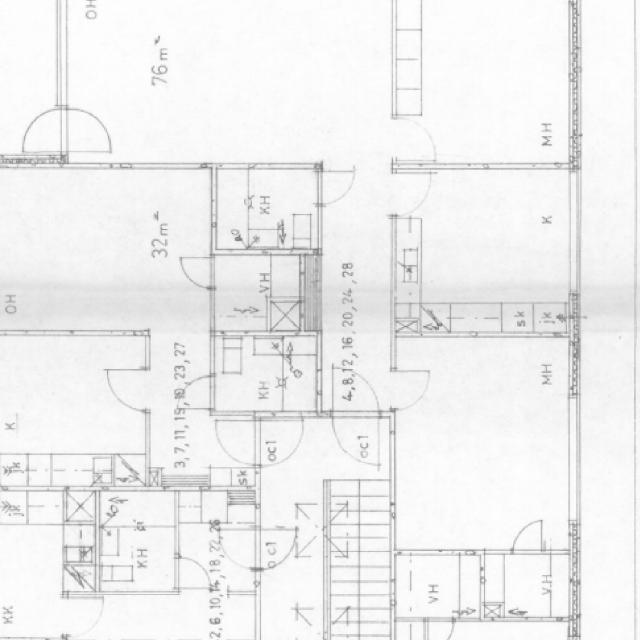door: (332, 410, 379, 464), (332, 363, 379, 417), (55, 108, 111, 152), (12, 108, 68, 152), (389, 172, 437, 215), (389, 116, 437, 159), (389, 370, 432, 408), (315, 172, 354, 205), (512, 518, 542, 554)
